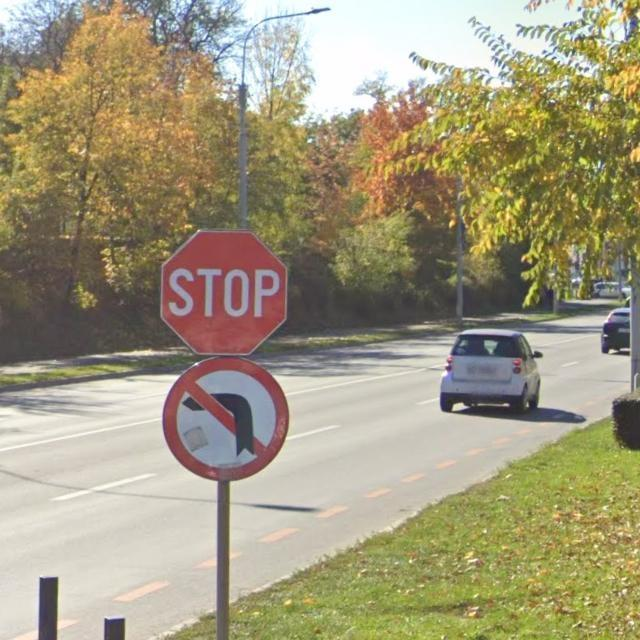prio_stop: (157, 229, 290, 357)
